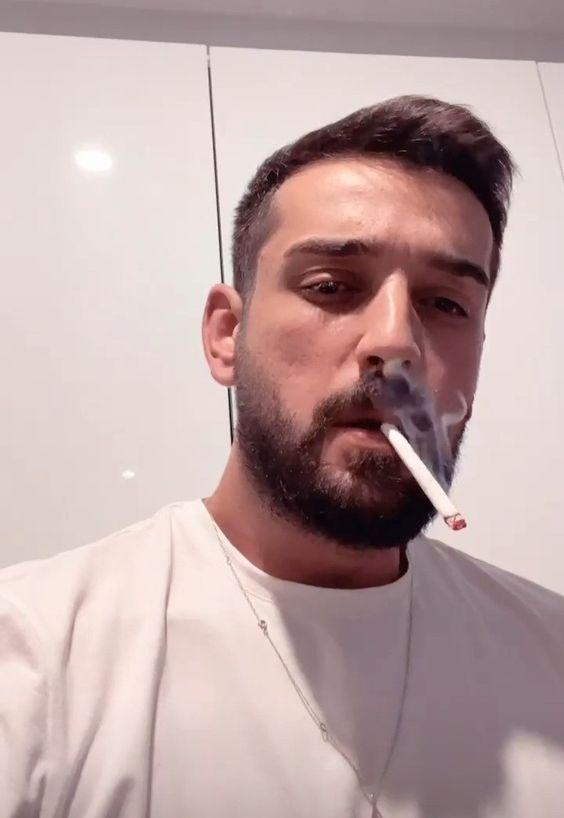cigarette: (379, 422, 468, 532)
